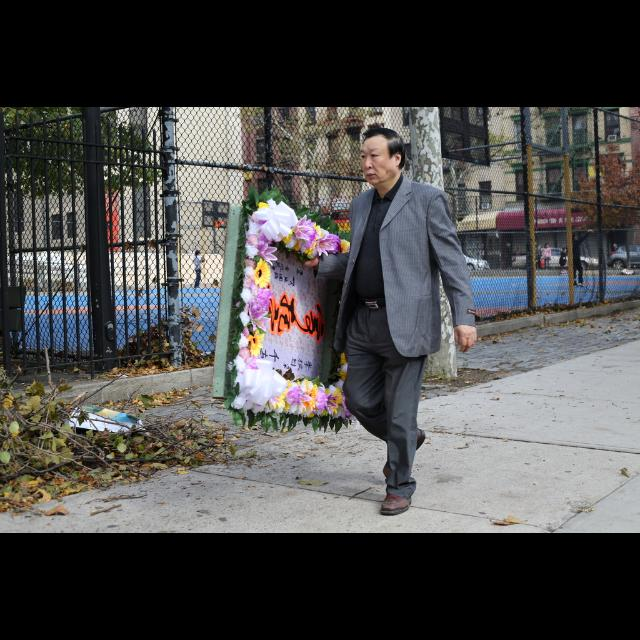Flower: (230, 196, 356, 426), (288, 212, 336, 255)
